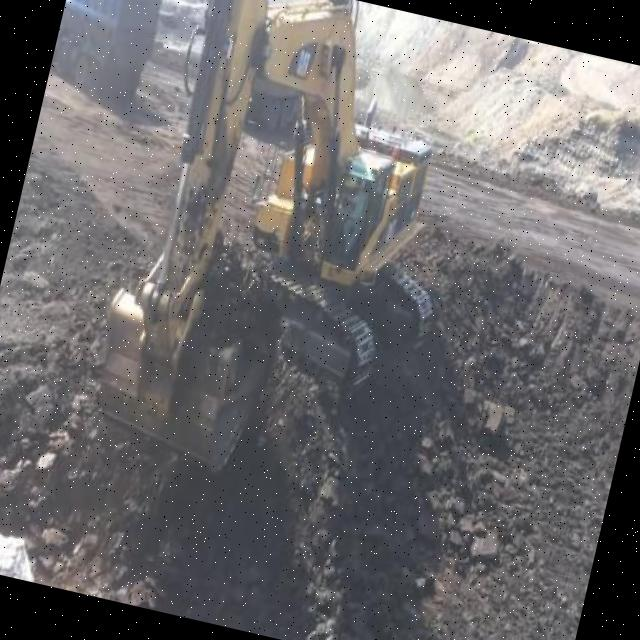Dump Truck: (45, 0, 168, 109)
Excavator: (74, 0, 496, 516)
